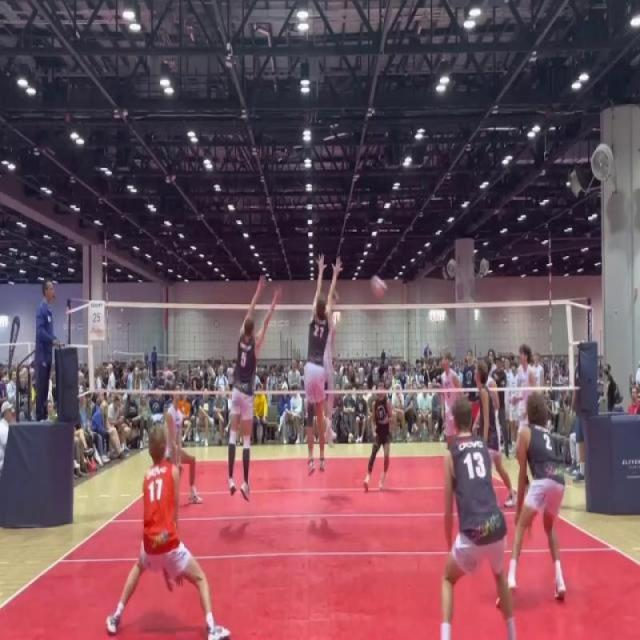volleyball: (368, 274, 389, 302)
